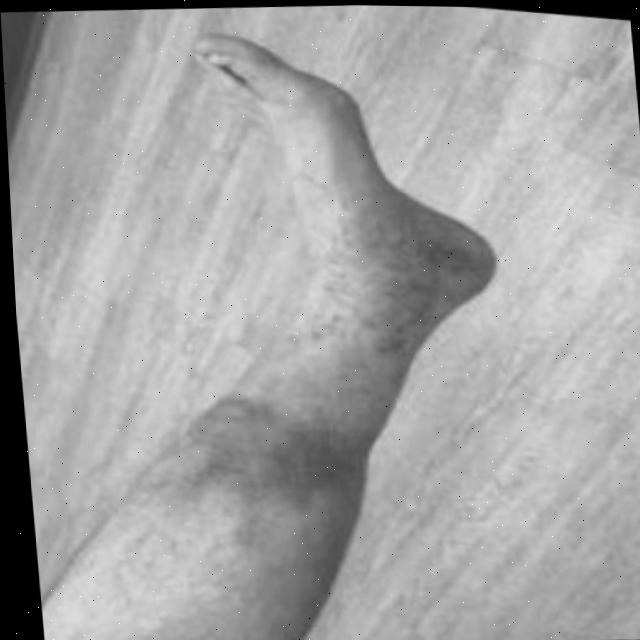Eczema: (157, 412, 365, 512), (334, 226, 481, 354)
